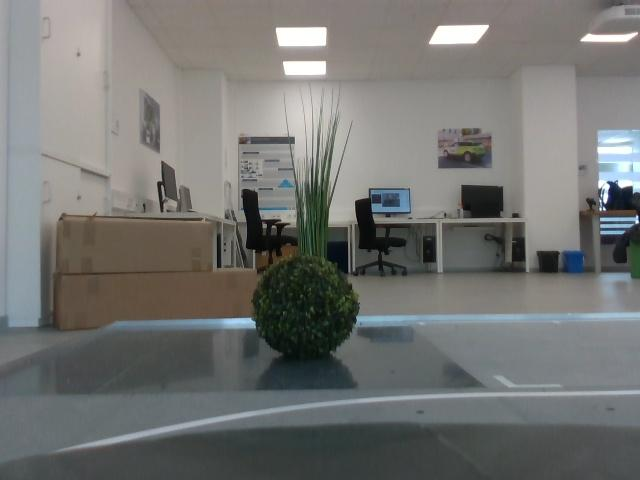potted plant: (283, 85, 360, 259), (253, 262, 360, 361)
